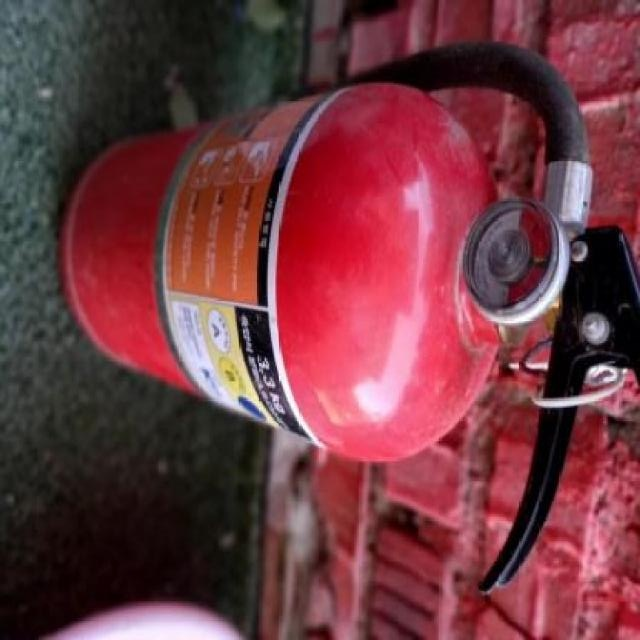fire extinguisher: (57, 39, 640, 593)
